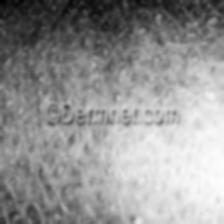Non-Cancerous Skin Condition: (24, 0, 168, 105)
